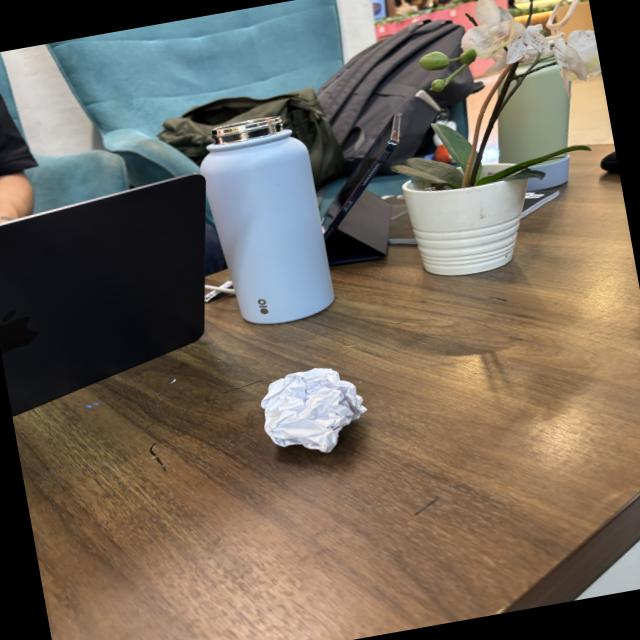crumpled_paper: (250, 354, 380, 466)
